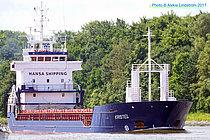Ship: (4, 2, 197, 137)
